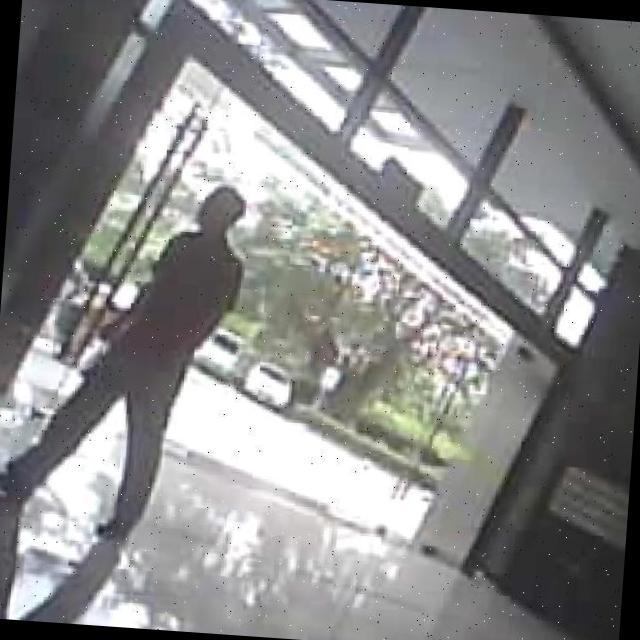person: (0, 158, 251, 543)
